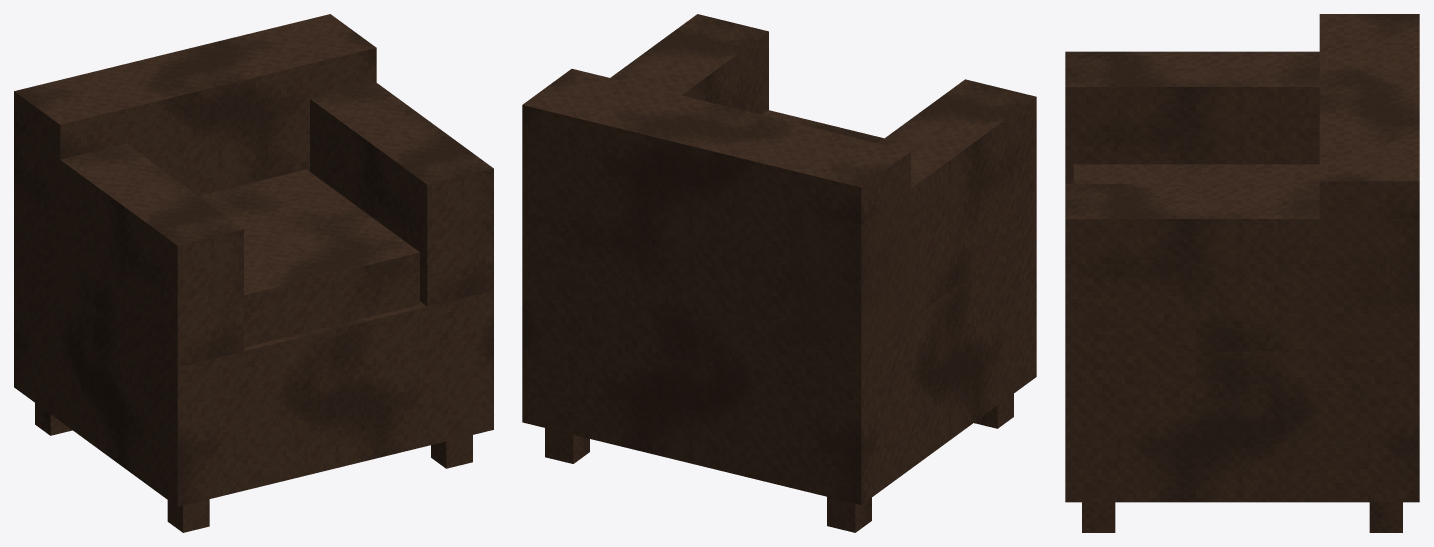
The model's file is Armchair.fbx.
3 views of the same model, side by side, from view 1: azimuth 30°, elevation 25°; view 2: azimuth 150°, elevation 25°; view 3: azimuth 270°, elevation 25° (orthographic). The views are drawn at different scales.
Parts seen in each view (by area): view 1: Armchair_Base, Armchair_Back, Armchair_ArmL, Armchair_ArmR, Armchair_Cushion1, Armchair_Feet; view 2: Armchair_Back, Armchair_Base, Armchair_ArmL, Armchair_ArmR, Armchair_Feet, Armchair_Cushion1; view 3: Armchair_Base, Armchair_ArmR, Armchair_Back, Armchair_ArmL, Armchair_Cushion1, Armchair_Feet.
Part boxes in pixels (bbox=[...]): Armchair_Base: bbox=[14, 248, 493, 506]; Armchair_Back: bbox=[14, 14, 376, 248]; Armchair_ArmL: bbox=[14, 126, 243, 367]; Armchair_ArmR: bbox=[310, 82, 493, 306]; Armchair_Cushion1: bbox=[198, 169, 419, 347]; Armchair_Feet: bbox=[35, 403, 472, 532]; Armchair_Back: bbox=[522, 69, 910, 355]; Armchair_Base: bbox=[522, 228, 1036, 504]; Armchair_ArmL: bbox=[790, 79, 1036, 355]; Armchair_ArmR: bbox=[522, 14, 768, 248]; Armchair_Feet: bbox=[545, 394, 1013, 532]; Armchair_Cushion1: bbox=[762, 110, 883, 143]; Armchair_Base: bbox=[1065, 351, 1419, 502]; Armchair_ArmR: bbox=[1065, 184, 1419, 351]; Armchair_Back: bbox=[1319, 14, 1419, 351]; Armchair_ArmL: bbox=[1065, 51, 1319, 183]; Armchair_Cushion1: bbox=[1073, 164, 1319, 183]; Armchair_Feet: bbox=[1082, 502, 1402, 532].
Bounding box in the file's own units: 0.95 × 0.95 × 0.85.
Materials: 1 (1 with a texture image).
